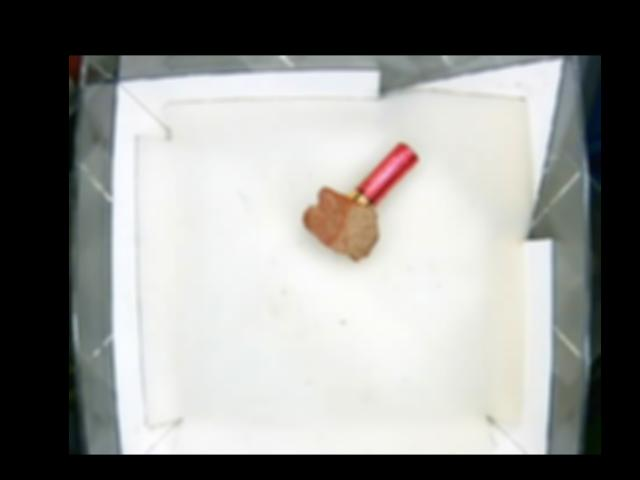Battery: (349, 143, 420, 206)
Brisk: (305, 186, 380, 259)
